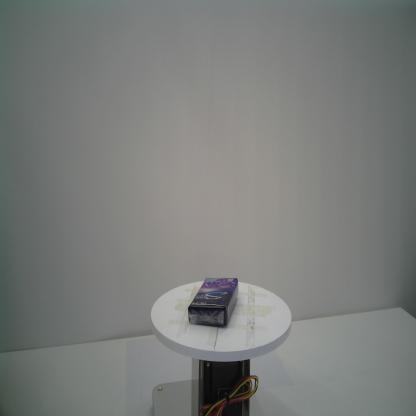Gum: (188, 277, 238, 326)
